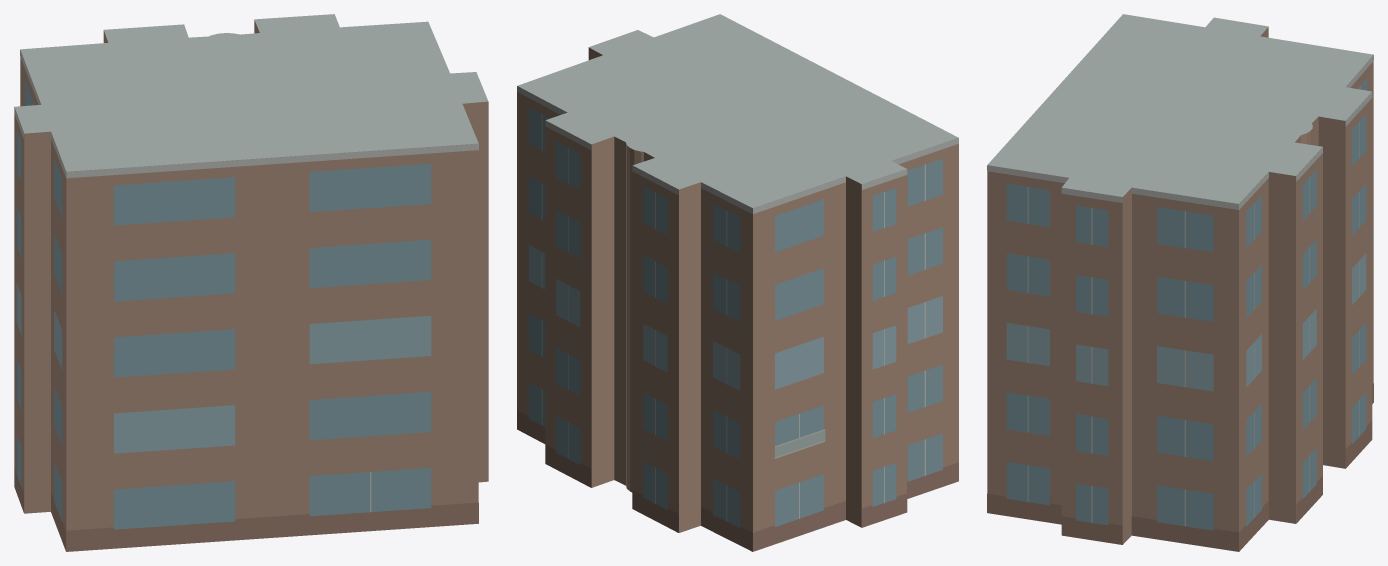
Rendered from survey-upis-32878001.glb.
3 views of the same model, side by side, from view 1: azimuth 30°, elevation 25°; view 2: azimuth 150°, elevation 25°; view 3: azimuth 270°, elevation 25° (orthographic). The views are drawn at different scales.
Parts seen in each view (by area): view 1: survey-upis-32878001.tmp; view 2: survey-upis-32878001.tmp; view 3: survey-upis-32878001.tmp.
Part boxes in pixels (box(x1,y1,x2,y2)): survey-upis-32878001.tmp: box(14, 14, 488, 551); survey-upis-32878001.tmp: box(517, 14, 958, 551); survey-upis-32878001.tmp: box(987, 14, 1373, 551).
Bounding box in the file's own units: 16.46 × 14.05 × 14.16.
